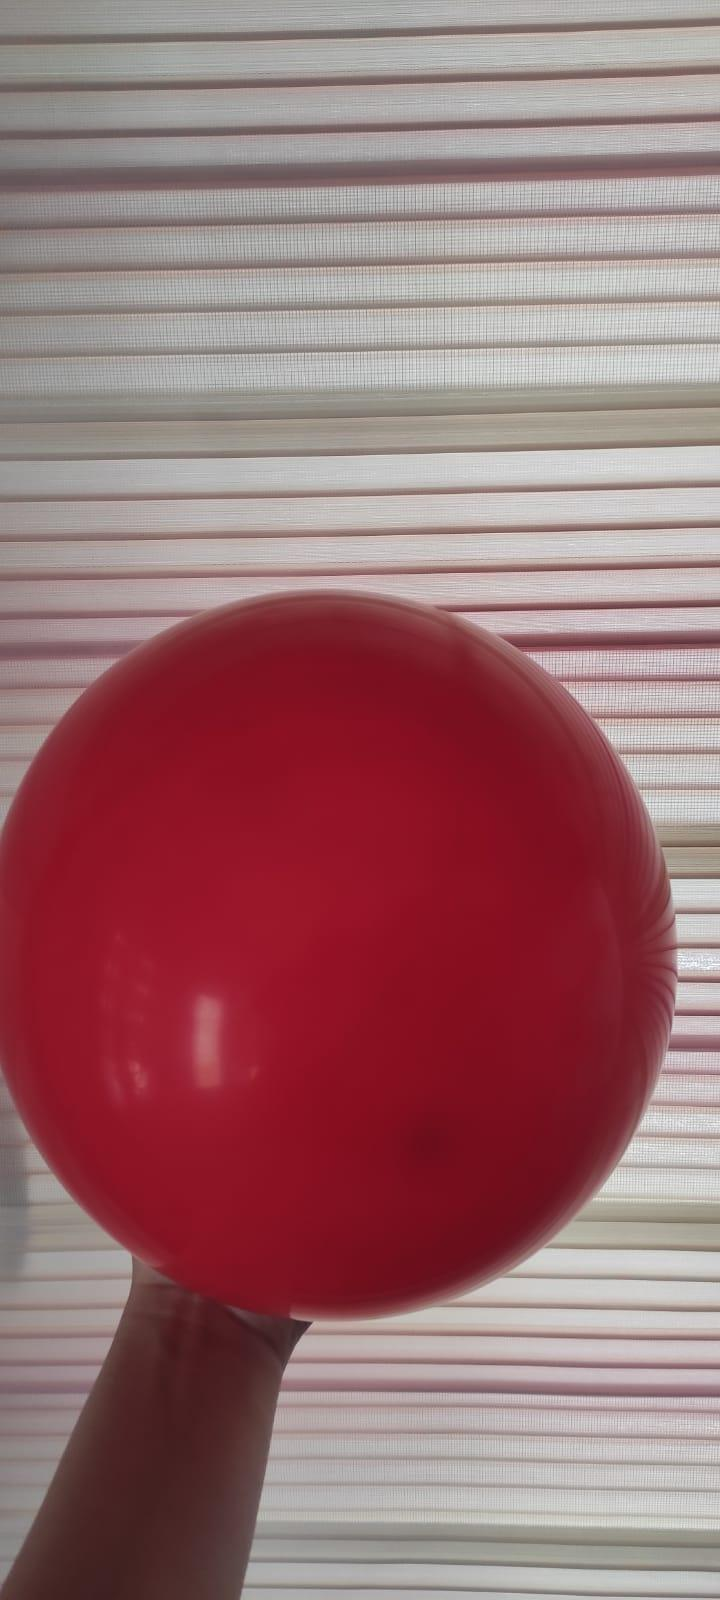red: (0, 581, 684, 1321)
